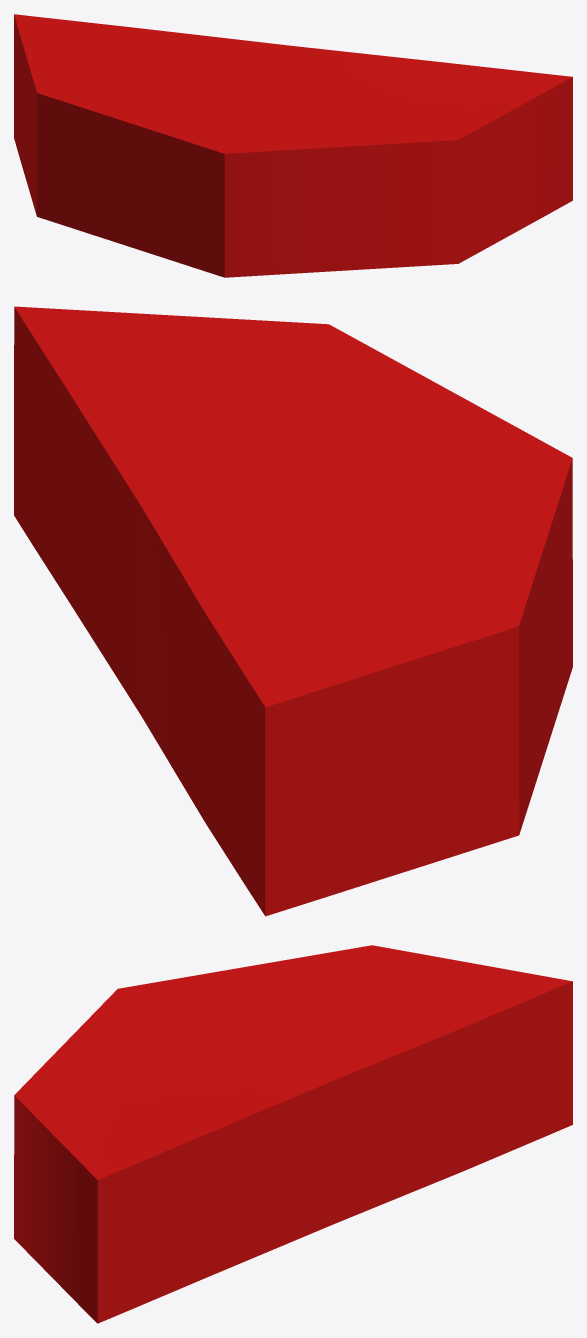
The model's file is semicircle.dae.
3 views of the same model, one above another, from view 1: azimuth 30°, elevation 25°; view 2: azimuth 150°, elevation 25°; view 3: azimuth 270°, elevation 25° (orthographic). The views are drawn at different scales.
Visible parts, largest first — view 1: Semicircle2; view 2: Semicircle2; view 3: Semicircle2.
Boxes of the visible parts, <box> form: Semicircle2: <box>14,14,572,277</box>; Semicircle2: <box>14,306,572,916</box>; Semicircle2: <box>14,945,572,1323</box>.
Bounding box in the file's own units: 0.07 × 0.07 × 0.02.
